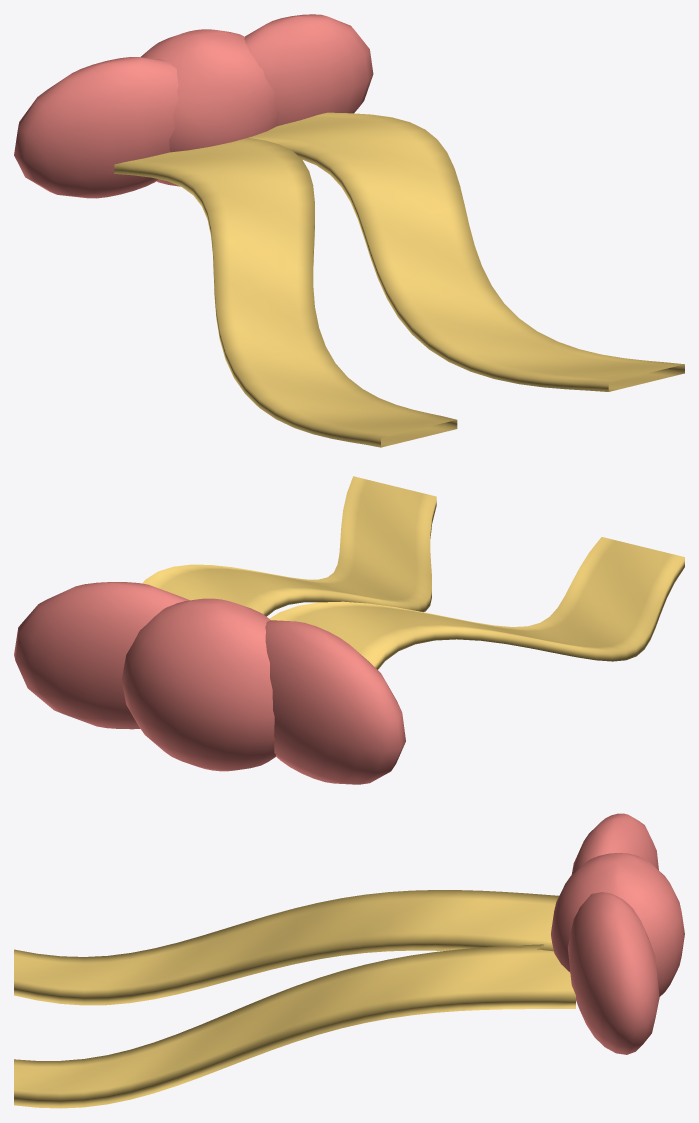
The model's file is festival-ribbon.glb.
The picture shows the model from 3 angles, top to bottom: view 1: azimuth 30°, elevation 25°; view 2: azimuth 150°, elevation 25°; view 3: azimuth 270°, elevation 25°; orthographic projection. The views are drawn at different scales.
Visible parts, largest first — view 1: FestivalRibbon_Tails, FestivalRibbon_Knot; view 2: FestivalRibbon_Knot, FestivalRibbon_Tails; view 3: FestivalRibbon_Tails, FestivalRibbon_Knot.
Part boxes in pixels (x1,y1,x2,y2): FestivalRibbon_Tails: (114,112,684,447); FestivalRibbon_Knot: (14,14,373,198); FestivalRibbon_Knot: (14,582,405,784); FestivalRibbon_Tails: (142,476,684,669); FestivalRibbon_Tails: (14,890,575,1108); FestivalRibbon_Knot: (551,813,684,1054).
Bounding box in the file's own units: 0.9727 × 0.4559 × 1.6.
